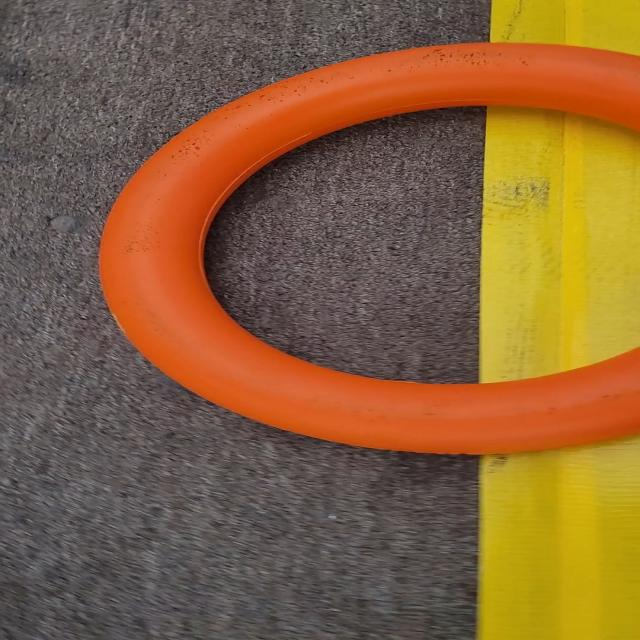note: (84, 41, 640, 461)
